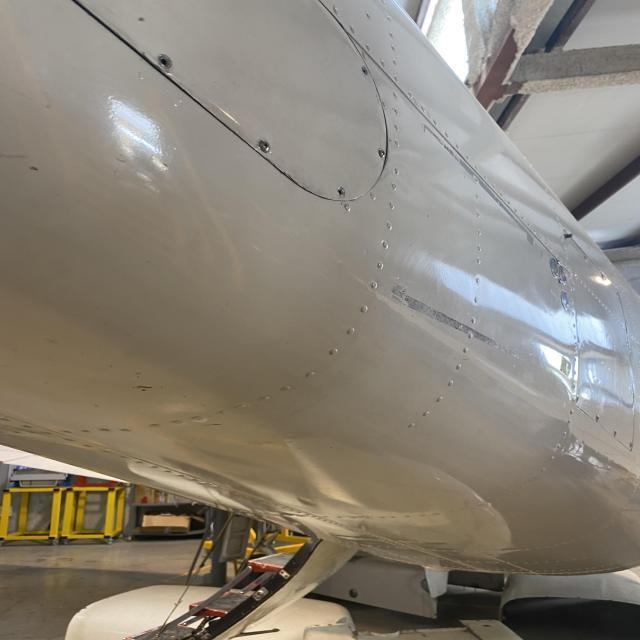Fastener Damage: (157, 55, 182, 73), (337, 186, 349, 200), (359, 65, 371, 77)
